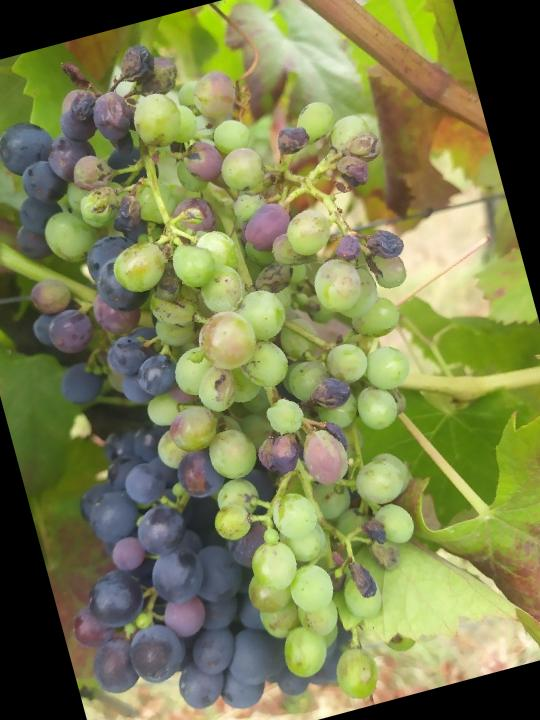grape: (0, 0, 528, 720)
